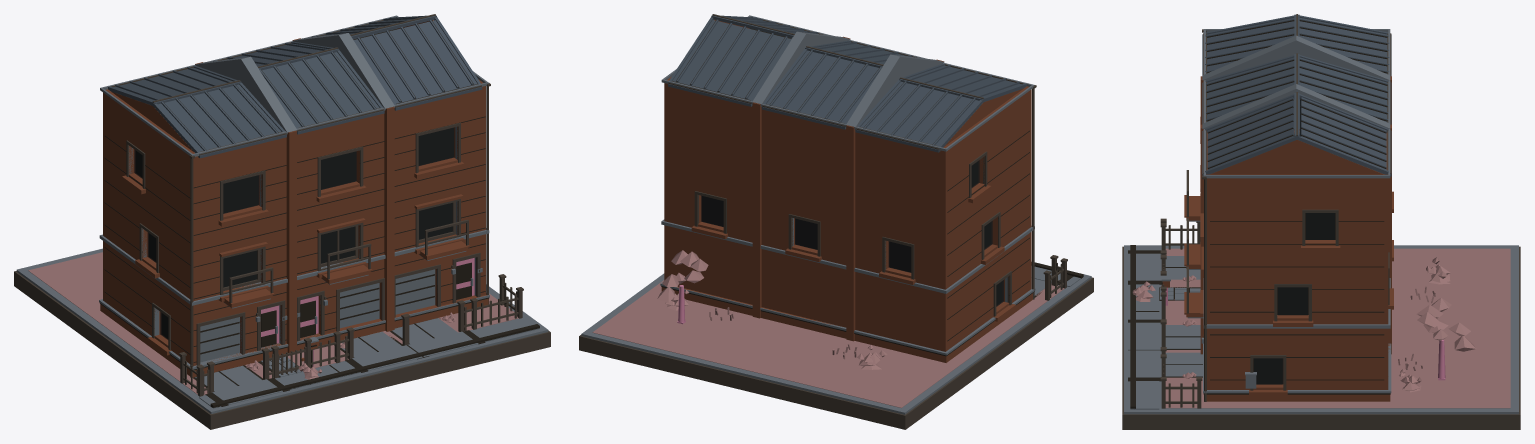
File: townhouse-modern-brick.glb
3 views of the same model, side by side, from view 1: azimuth 30°, elevation 25°; view 2: azimuth 150°, elevation 25°; view 3: azimuth 270°, elevation 25° (orthographic). The views are drawn at different scales.
Parts seen in each view (by area): view 1: body-0, body-3, body-5, body-1, body-2, body-6, body-4, dd-opening:garage-2:0, dd-opening:garage-1:0, dd-opening:garage-0:0, dd-opening:mid-0:4, dd-opening:mid-2:4 (+1 smaller); view 2: body-0, body-5, body-6, body-3, body-1, body-2, body-4; view 3: body-0, body-6, body-5, body-1, body-3, body-2, body-4.
Boxes of the visible parts, x1,y1,x2,y2 form: body-0: (100,20,488,377); body-3: (14,14,550,429); body-5: (108,15,482,158); body-1: (16,15,548,413); body-2: (100,20,539,407); body-6: (28,252,518,395); body-4: (134,127,454,339); dd-opening:garage-2:0: (395,269,435,314); dd-opening:garage-1:0: (340,283,379,328); dd-opening:garage-0:0: (200,317,239,362); dd-opening:mid-0:4: (223,250,256,287); dd-opening:mid-2:4: (419,203,452,239); body-0: (661,19,1032,362); body-5: (668,14,1026,152); body-6: (592,250,1064,407); body-3: (579,14,1093,429); body-1: (581,15,1091,414); body-2: (661,20,1083,356); body-4: (701,160,1003,306); body-0: (1161,76,1393,401); body-6: (1132,248,1510,408); body-5: (1202,14,1391,176); body-1: (1124,29,1518,414); body-3: (1122,14,1520,429); body-2: (1128,20,1390,408); body-4: (1254,213,1334,384).
Size of the model in its own units: 15 by 11.78 by 15.
